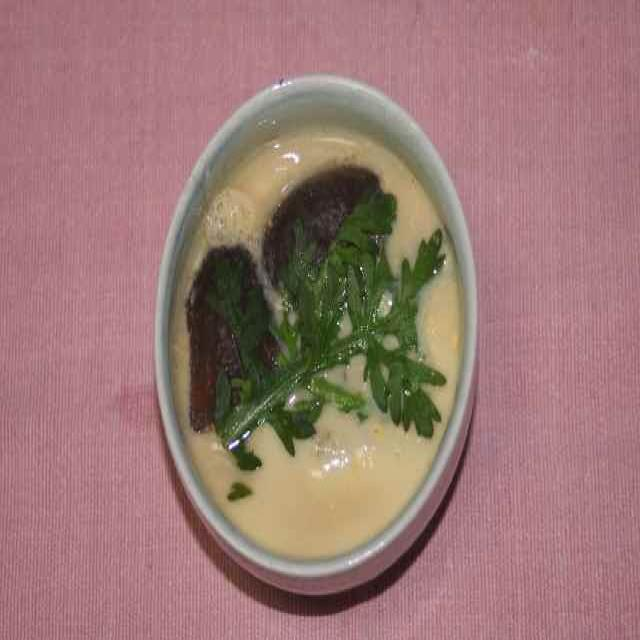鸡蛋料理: (117, 40, 506, 640)
